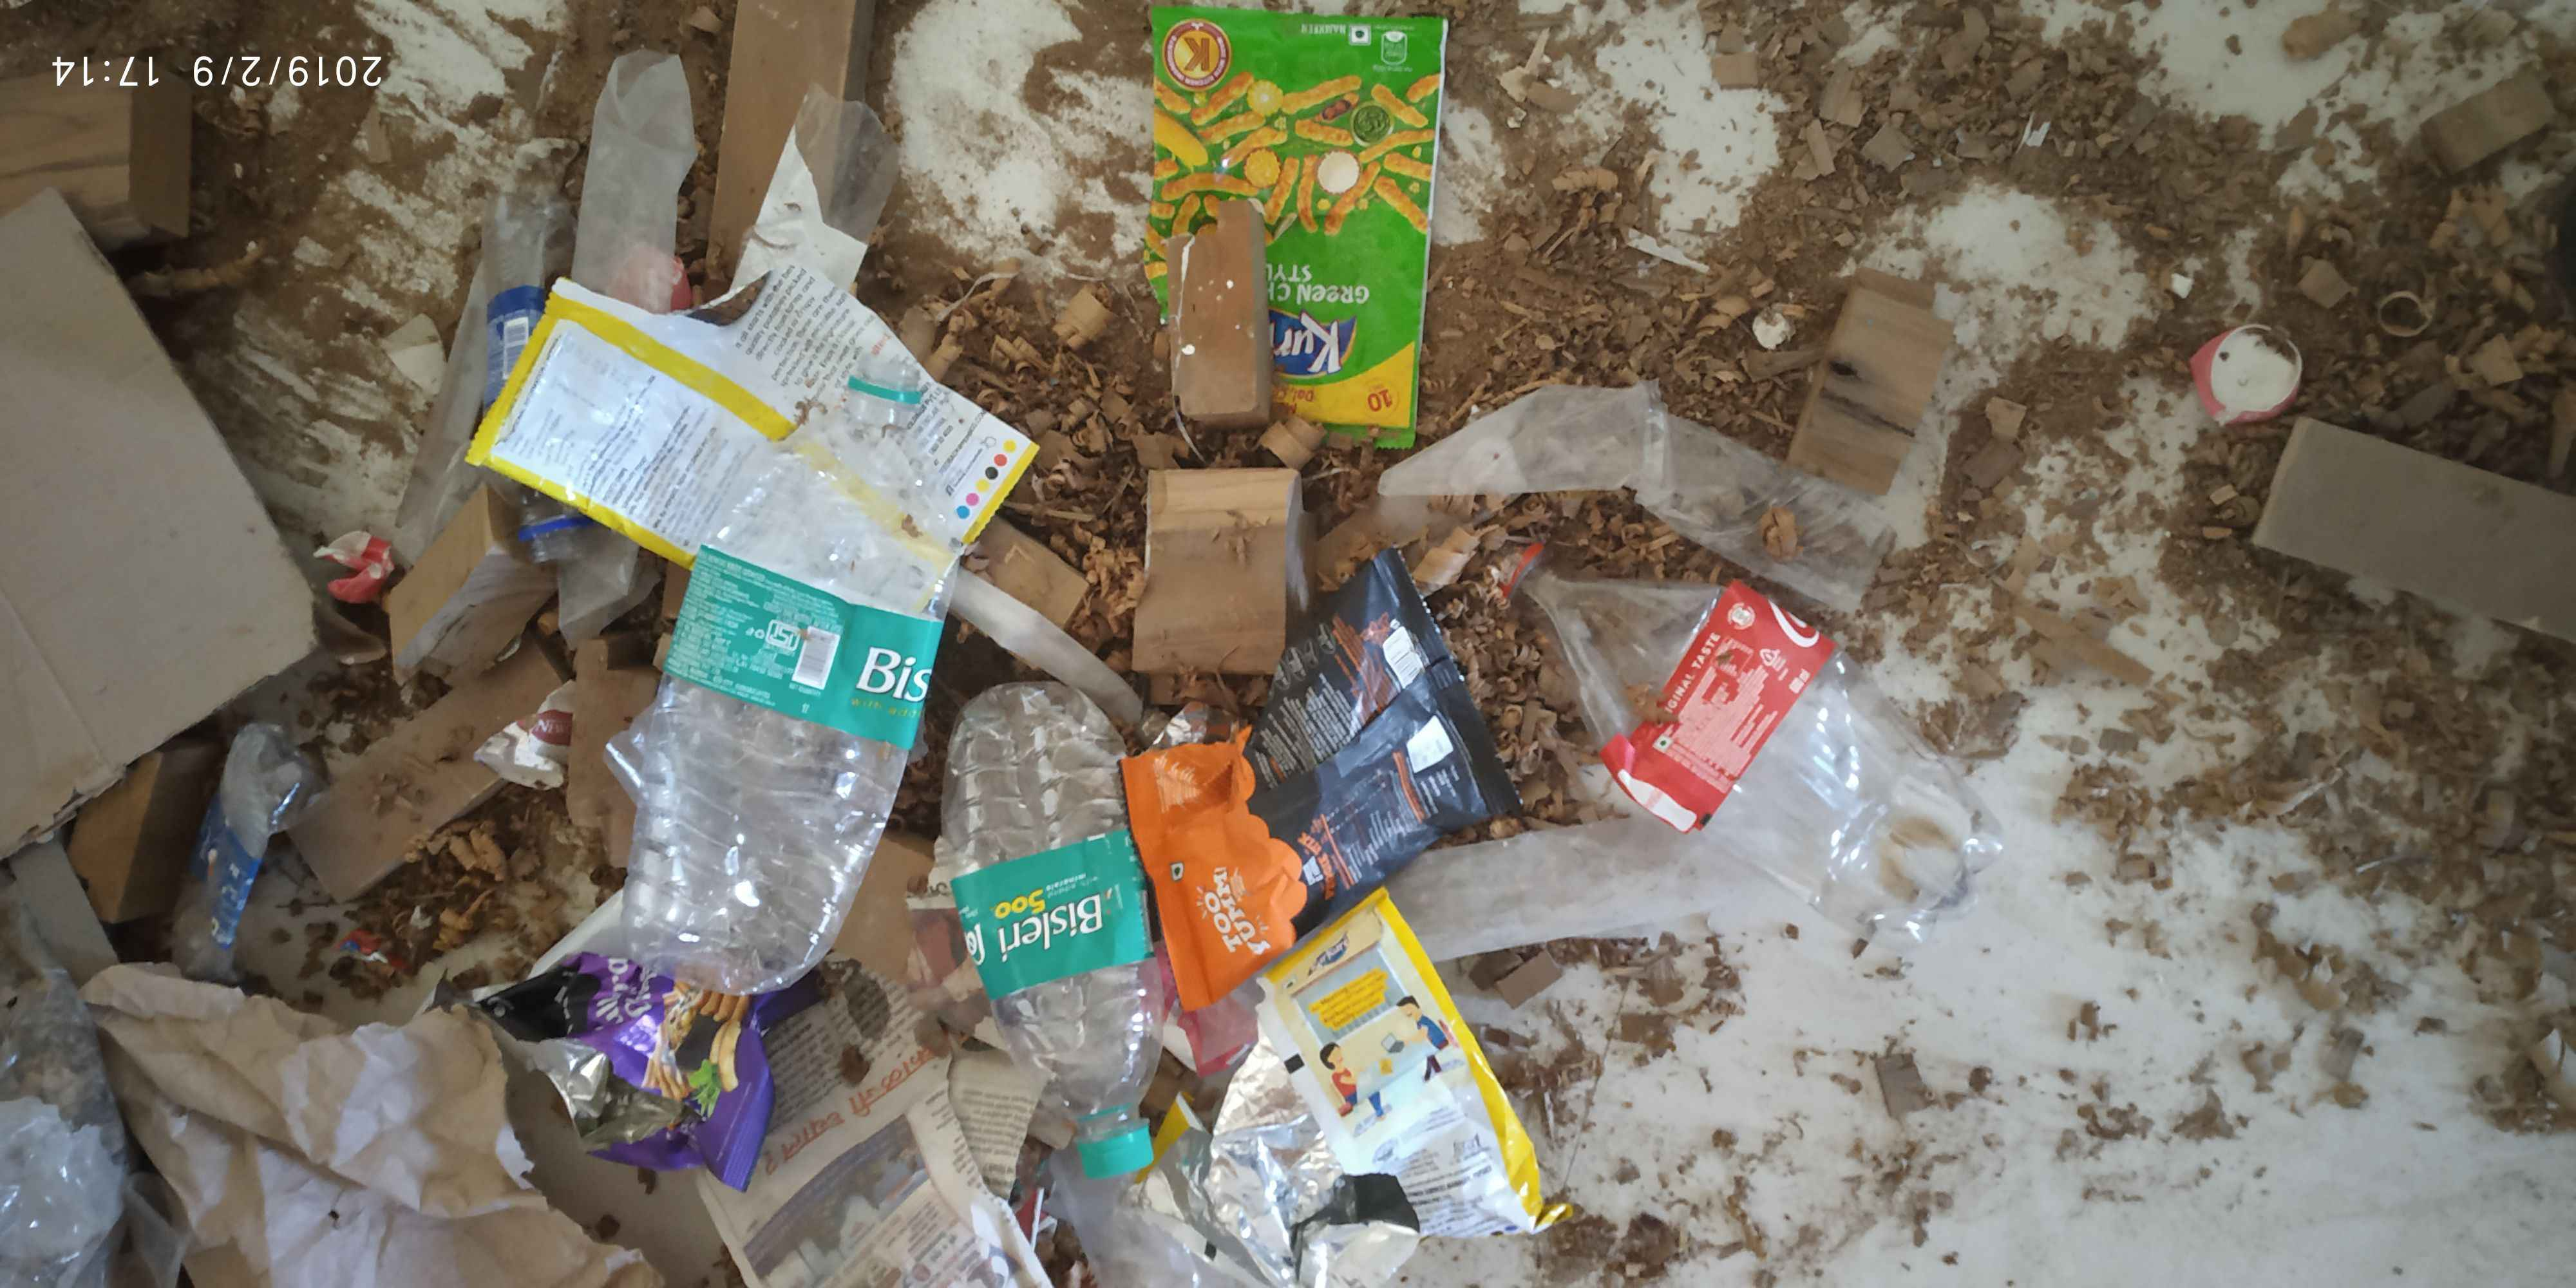Bisleri: (958, 853, 1171, 969), (805, 616, 941, 744)
Coca-Cola: (1697, 563, 1827, 754)
kurkure: (1258, 306, 1378, 384), (1291, 909, 1364, 984)
tooyumm: (1173, 853, 1299, 969), (529, 973, 629, 1078)
